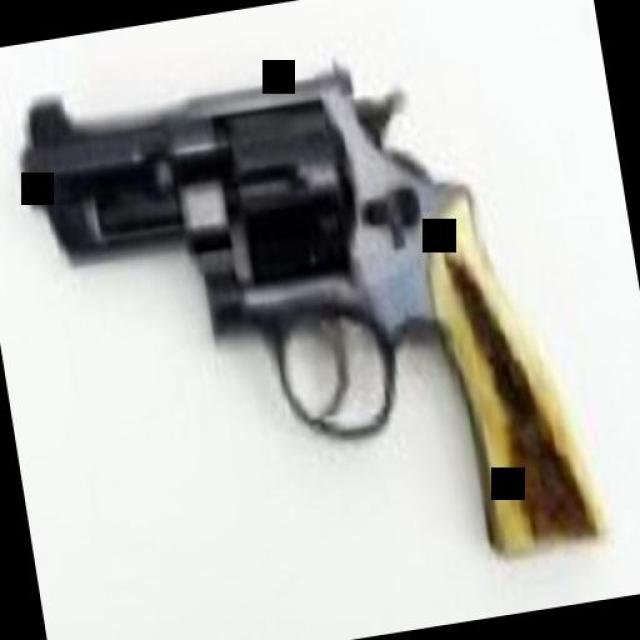gun: (19, 11, 600, 618)
